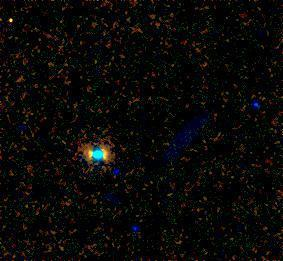star: (120, 212, 150, 242)
